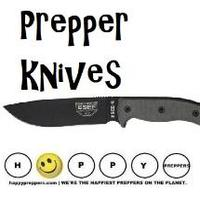knife: (1, 93, 200, 136)
